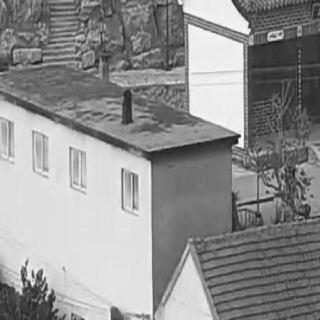other: (196, 235, 310, 299)
